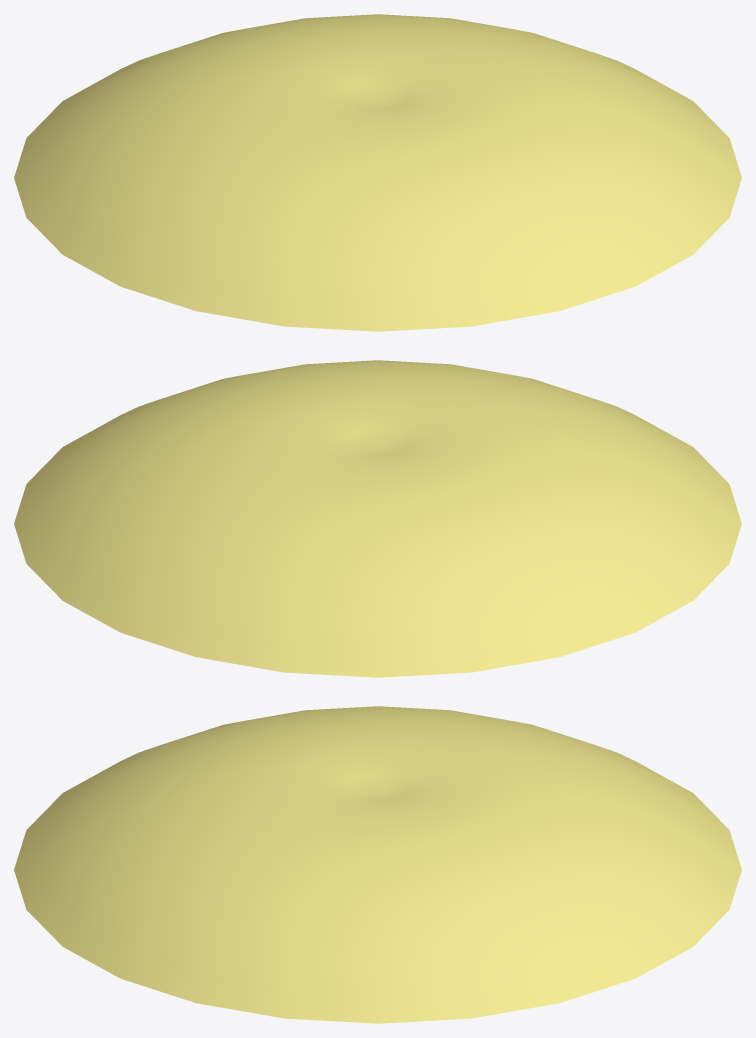
The model's file is original-37.obj.
3 renders of one model, top to bottom at view 1: azimuth 30°, elevation 25°; view 2: azimuth 150°, elevation 25°; view 3: azimuth 270°, elevation 25°, orthographic.
Parts seen in each view (by area): view 1: mesh42/mesh42-geometry/material_0/component_8#mesh42-geometry; view 2: mesh42/mesh42-geometry/material_0/component_8#mesh42-geometry; view 3: mesh42/mesh42-geometry/material_0/component_8#mesh42-geometry.
Boxes of the visible parts, left/top/right/bottom form: mesh42/mesh42-geometry/material_0/component_8#mesh42-geometry: left=14, top=14, right=741, bottom=331; mesh42/mesh42-geometry/material_0/component_8#mesh42-geometry: left=14, top=360, right=741, bottom=677; mesh42/mesh42-geometry/material_0/component_8#mesh42-geometry: left=14, top=706, right=741, bottom=1023.
Size of the model in its own units: 0.0632 by 0.00809 by 0.0632.
